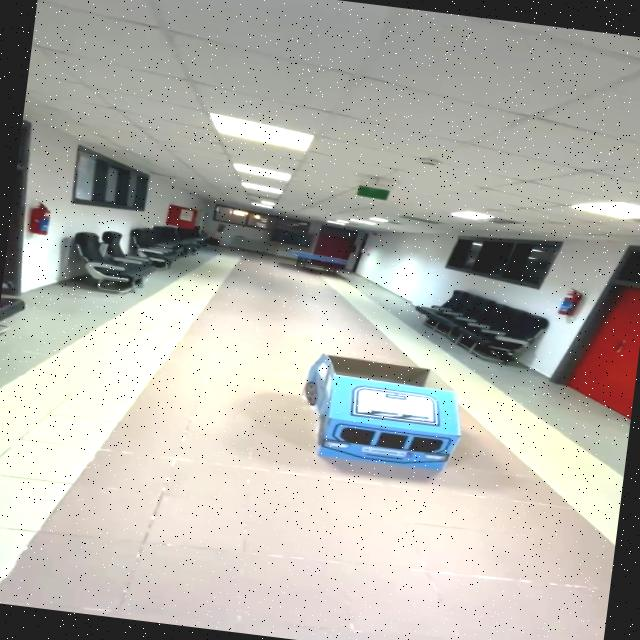blue_car: (268, 335, 523, 510)
